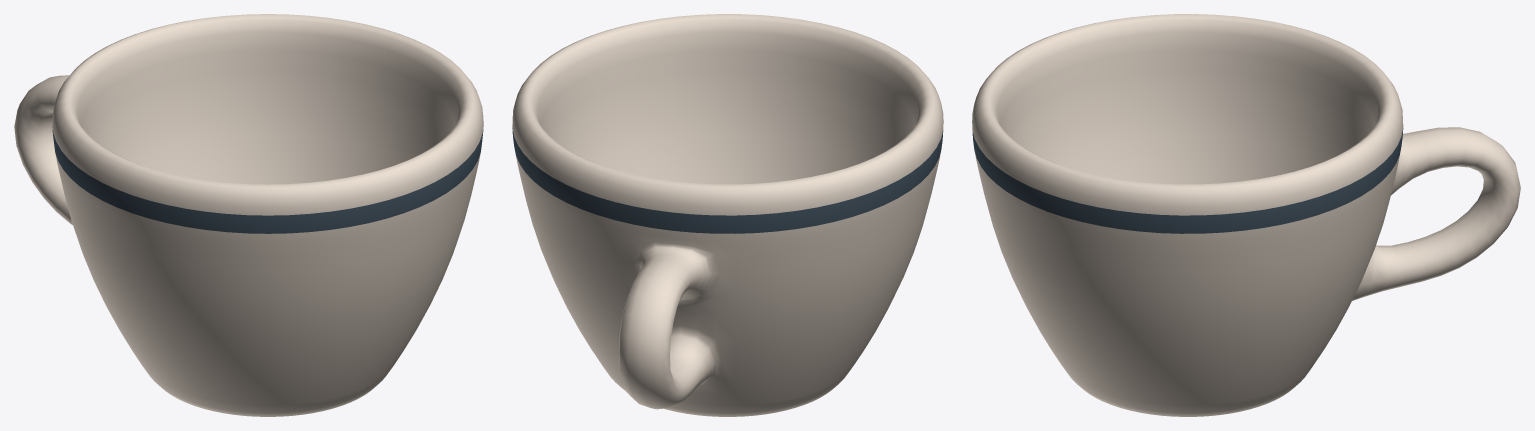
Rendered from Lattecup.fbx.
3 views of the same model, side by side, from view 1: azimuth 30°, elevation 25°; view 2: azimuth 150°, elevation 25°; view 3: azimuth 270°, elevation 25° (orthographic).
Visible parts, largest first — view 1: Cup; view 2: Cup; view 3: Cup.
Boxes of the visible parts, <box> form: Cup: <box>14,14,483,416</box>; Cup: <box>512,14,943,416</box>; Cup: <box>972,14,1520,416</box>.
Size of the model in its own units: 9.13 by 6.34 by 11.62.
